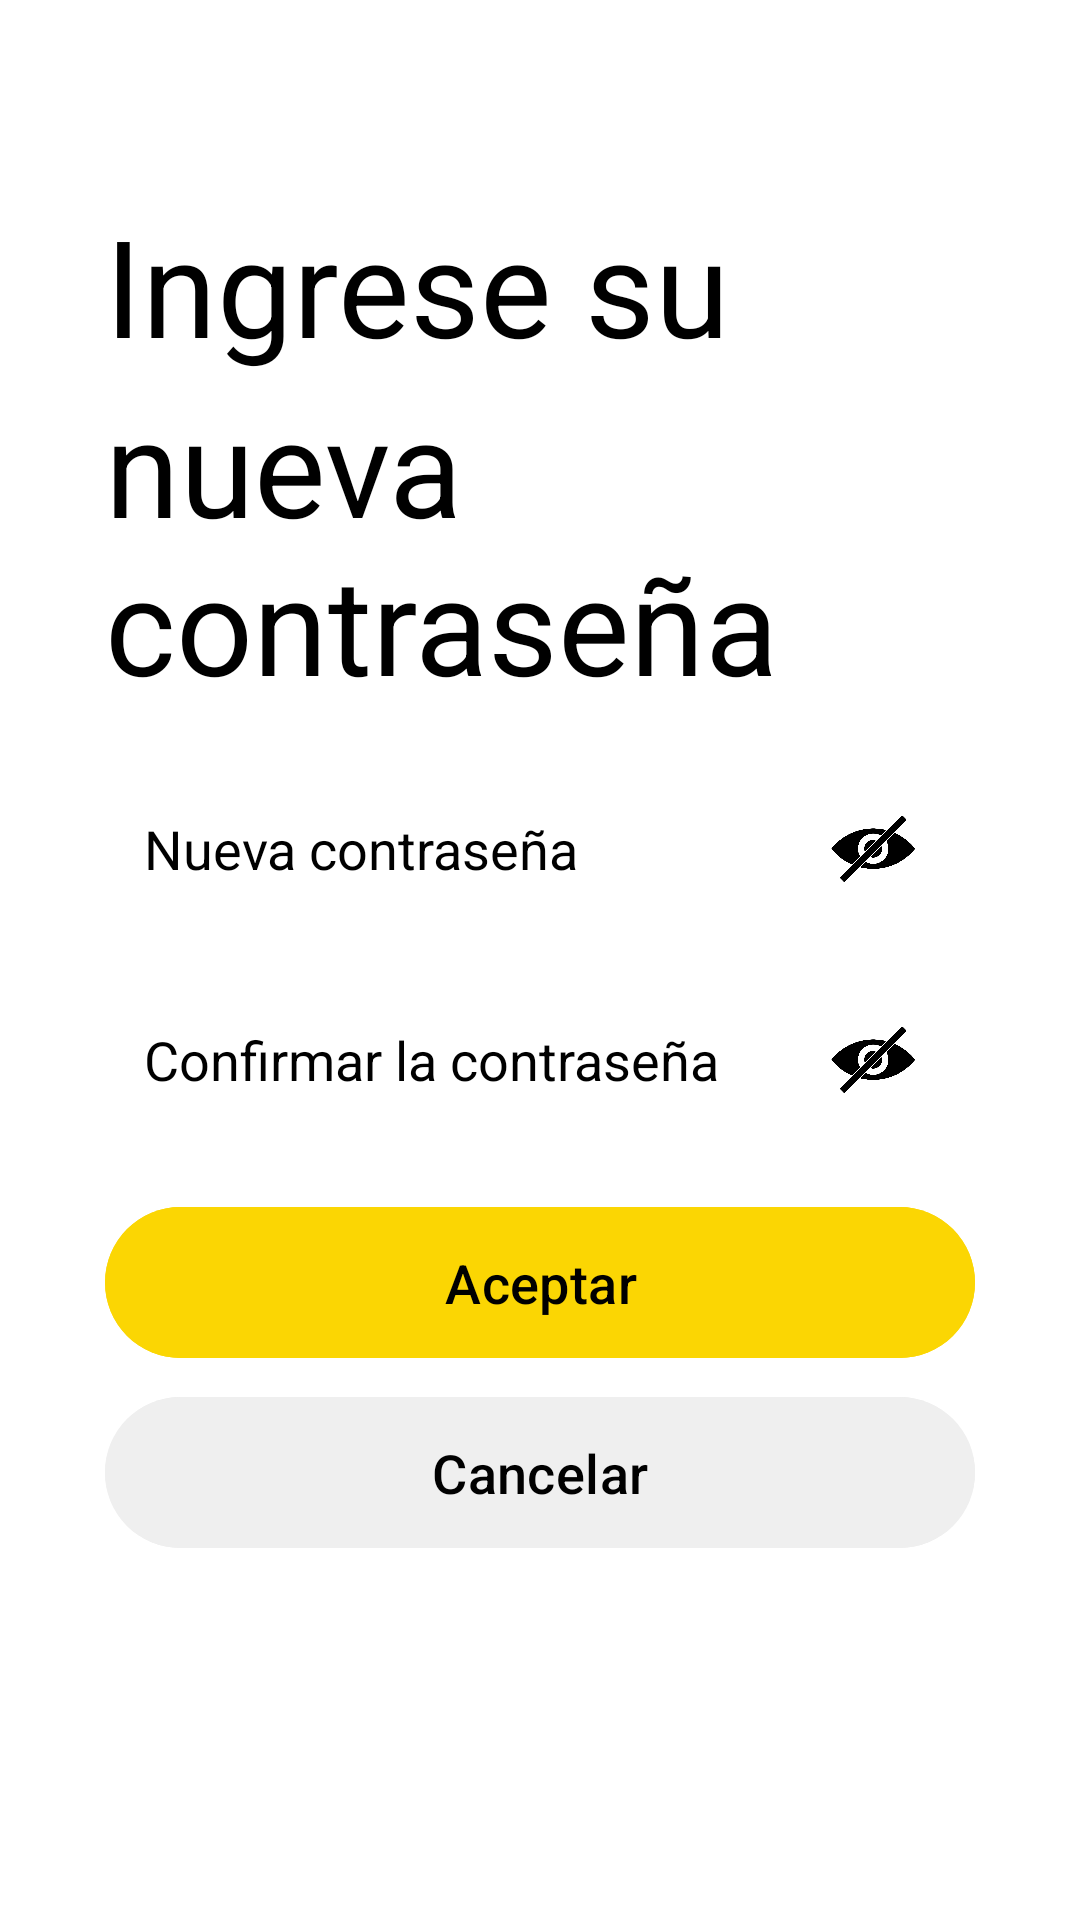

Icon bounding boxes for this 1080*1920 phone screenshot, format [x1,y1,x2,y2]:
noeye: [831,816,915,882], [831,1027,915,1093]
